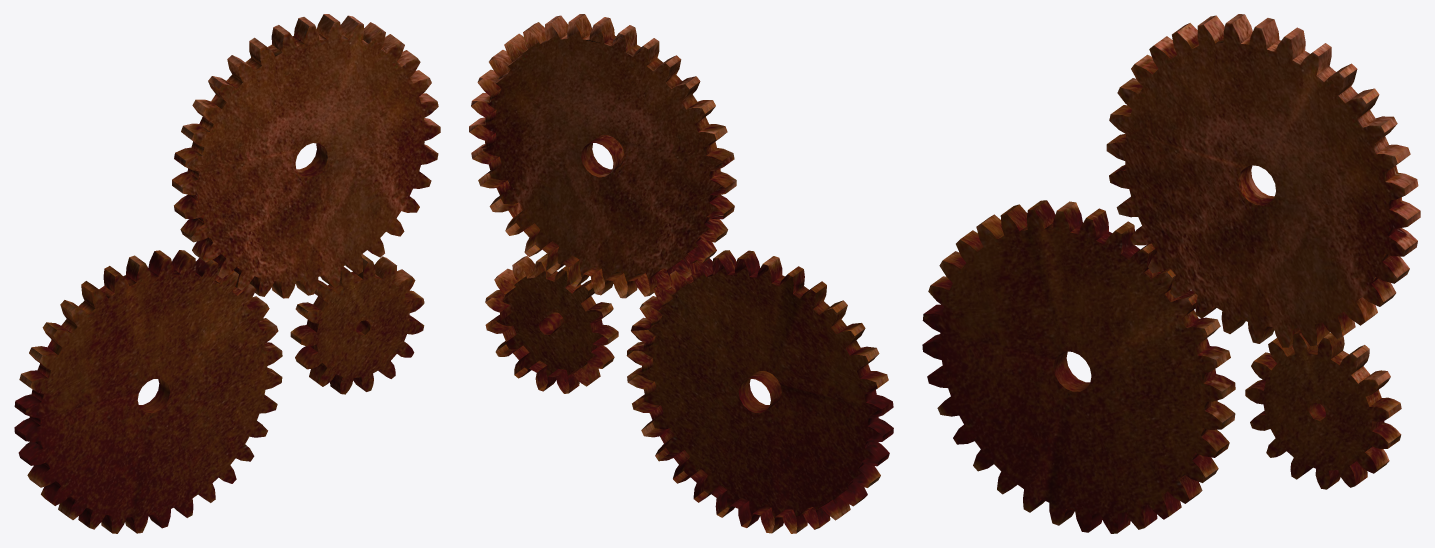
Rendered from rusty_gears_01.glb.
The picture shows the model from 3 angles, left to right: view 1: azimuth 30°, elevation 25°; view 2: azimuth 150°, elevation 25°; view 3: azimuth 330°, elevation 25°; orthographic projection. The views are drawn at different scales.
Visible parts, largest first — view 1: rusty_gears_01; view 2: rusty_gears_01; view 3: rusty_gears_01.
Boxes of the visible parts, x1,y1,x2,y2 form: rusty_gears_01: [14, 14, 440, 533]; rusty_gears_01: [469, 14, 893, 533]; rusty_gears_01: [922, 14, 1420, 533].
Size of what is drawn, in the model's own units: 0.2884 by 0.31 by 0.0142.
Materials: 1 (1 with a texture image).
